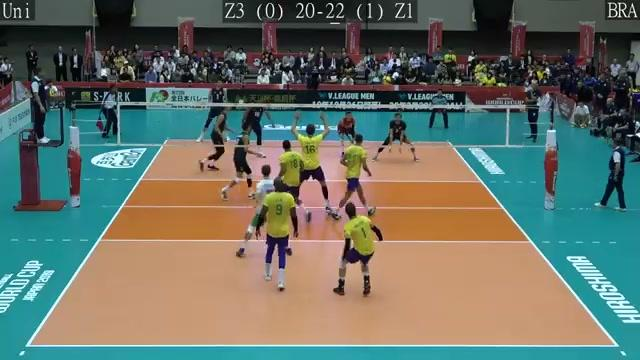ball: (381, 74, 393, 86)
